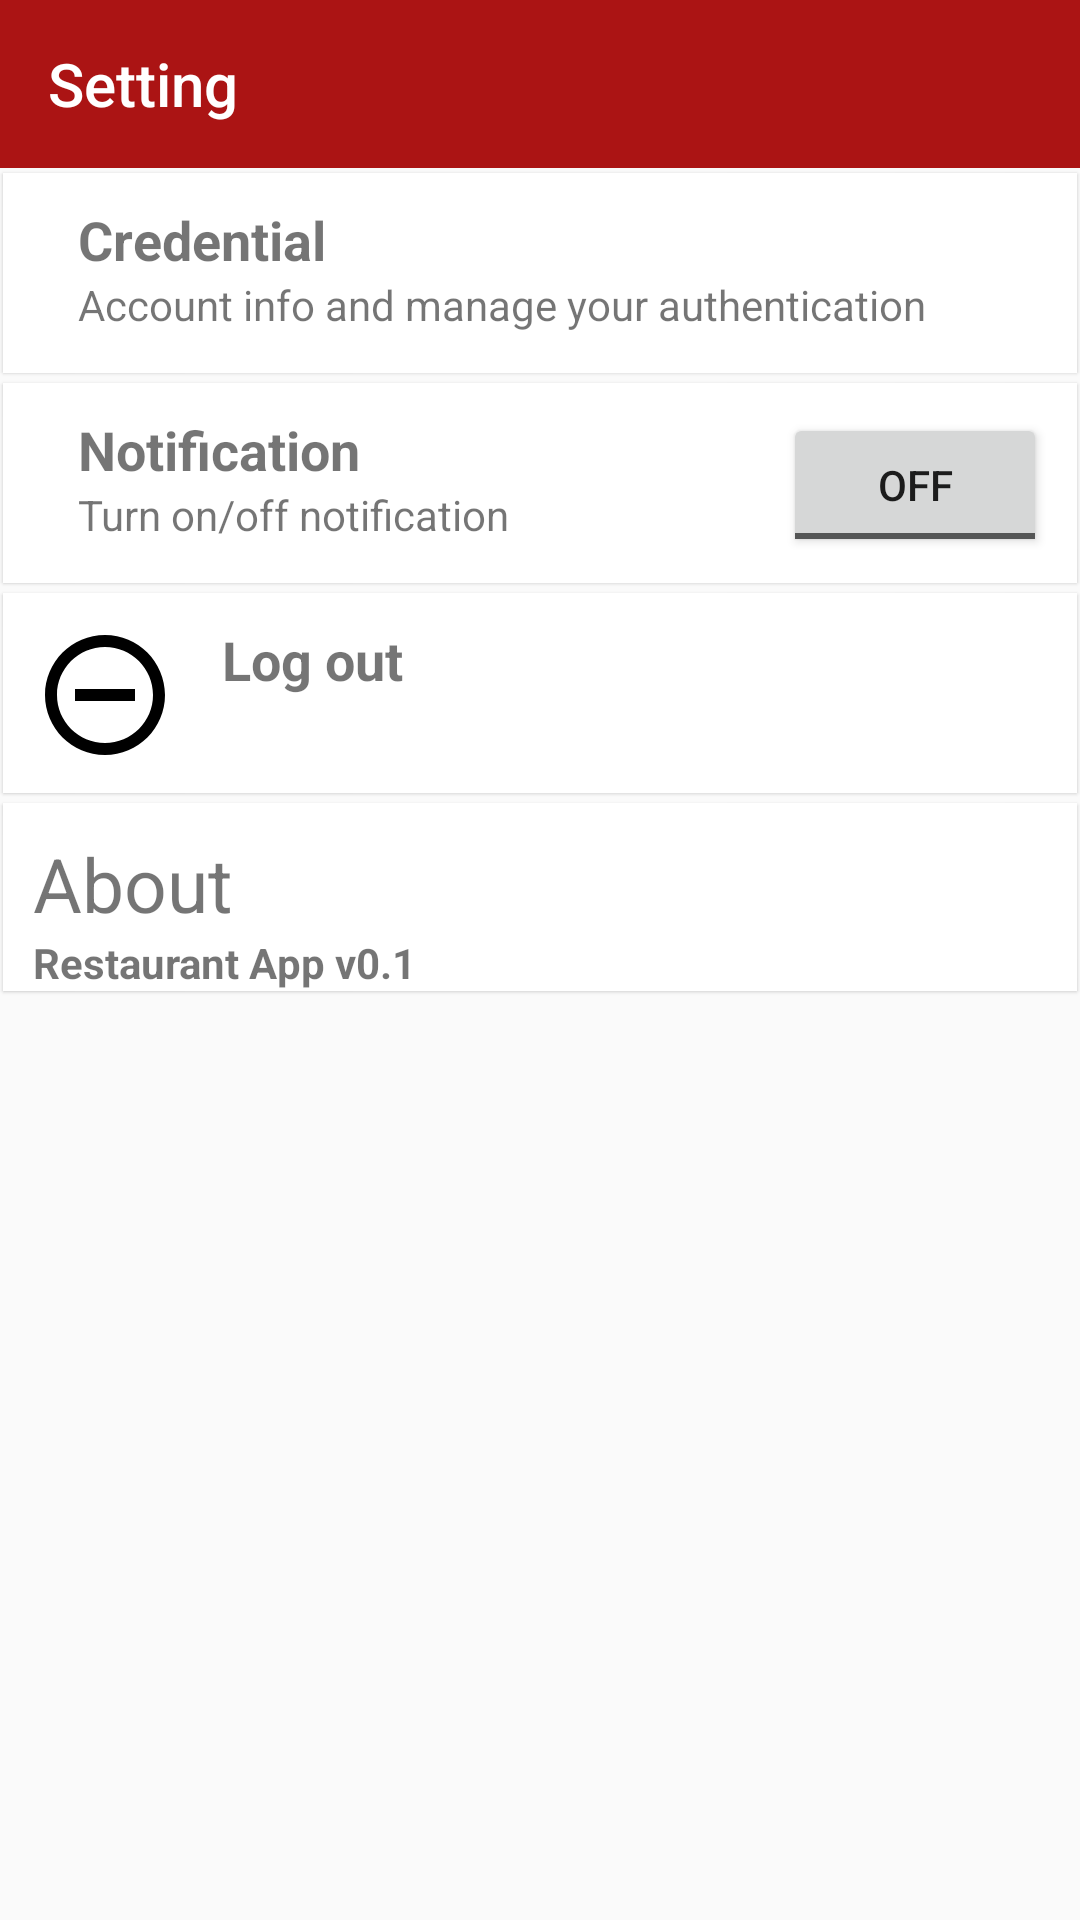

Where icons sit on this 1080w x 1920h app screen, as (x1, y1, x2, y2):
remove circle: (45, 635, 165, 755)
